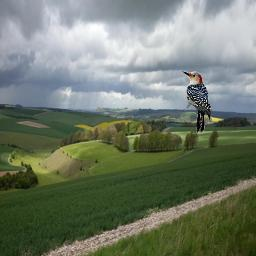Woodpecker: (182, 71, 211, 133)
